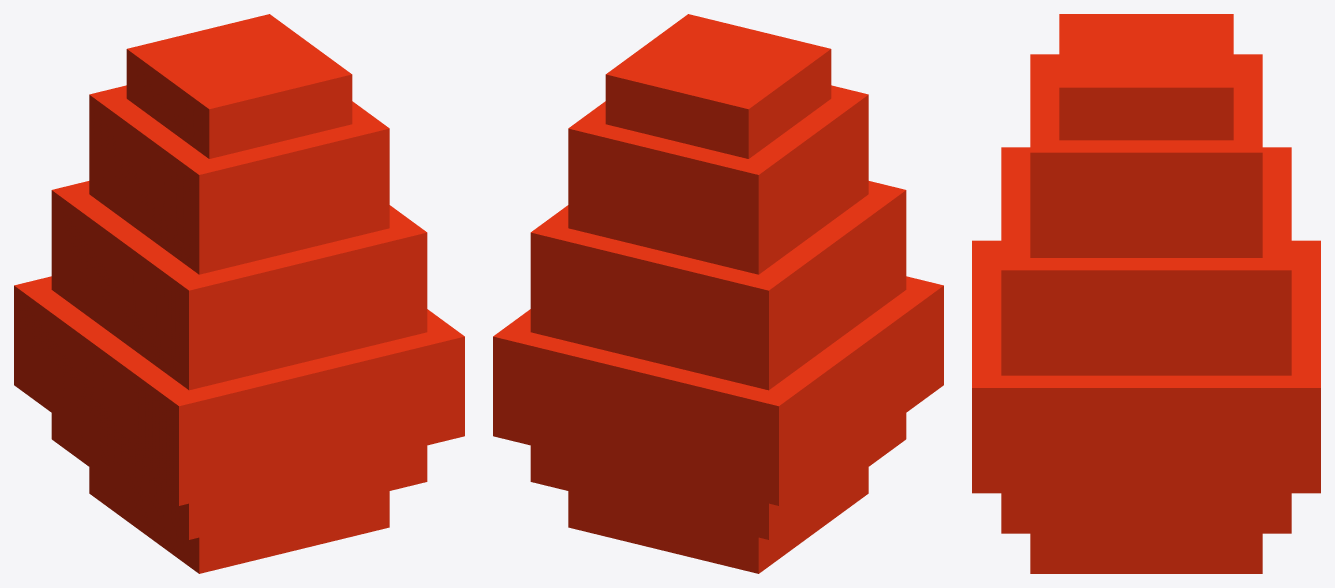
The model's file is DragonEgg.fbx.
The picture shows the model from 3 angles, left to right: view 1: azimuth 30°, elevation 25°; view 2: azimuth 150°, elevation 25°; view 3: azimuth 270°, elevation 25°; orthographic projection. The views are drawn at different scales.
Visible parts, largest first — view 1: Cube.003, Cube.004, Cube.005, Cube.006, Cube.002, Cube.001; view 2: Cube.003, Cube.004, Cube.005, Cube.006, Cube.002, Cube.001; view 3: Cube.003, Cube.004, Cube.005, Cube.006, Cube.002, Cube.001.
Boxes of the visible parts, box(x1,y1,x2,y2) form: Cube.003: box(14, 276, 464, 505); Cube.004: box(51, 181, 427, 390); Cube.005: box(89, 85, 389, 274); Cube.006: box(126, 14, 352, 158); Cube.002: box(51, 413, 427, 539); Cube.001: box(89, 467, 389, 573); Cube.003: box(493, 276, 943, 505); Cube.004: box(530, 181, 906, 390); Cube.005: box(568, 85, 868, 274); Cube.006: box(605, 14, 831, 158); Cube.002: box(530, 413, 906, 539); Cube.001: box(568, 467, 868, 573); Cube.003: box(972, 240, 1320, 493); Cube.004: box(1001, 147, 1291, 375); Cube.005: box(1030, 54, 1262, 257); Cube.006: box(1059, 14, 1233, 140); Cube.002: box(1001, 493, 1291, 533); Cube.001: box(1030, 533, 1262, 573).
Bounding box in the file's own units: 120 × 180 × 120.
